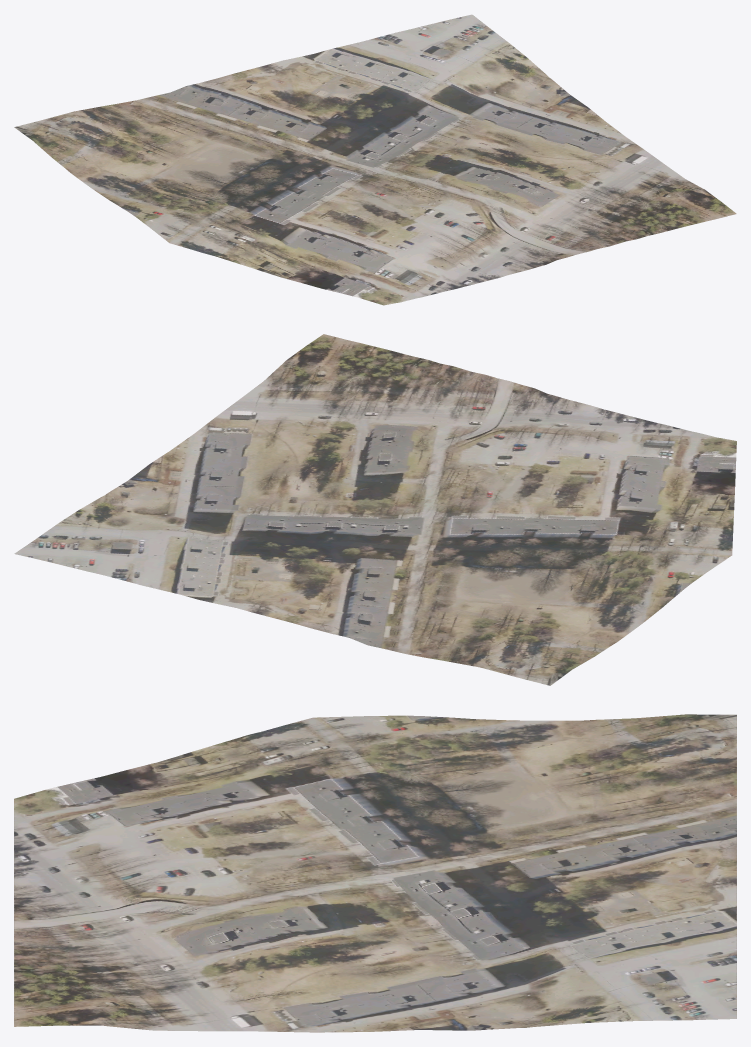
Rendered from CM_Terrain_24491073_6815698.fbx.
3 views of the same model, one above another, from view 1: azimuth 30°, elevation 25°; view 2: azimuth 150°, elevation 25°; view 3: azimuth 270°, elevation 25° (orthographic). The views are drawn at different scales.
Parts seen in each view (by area): view 1: CM_Terrain_24491073_6815698_LOD0; view 2: CM_Terrain_24491073_6815698_LOD0; view 3: CM_Terrain_24491073_6815698_LOD0.
Part boxes in pixels (x1,y1,x2,y2): CM_Terrain_24491073_6815698_LOD0: [14, 14, 736, 305]; CM_Terrain_24491073_6815698_LOD0: [14, 334, 736, 685]; CM_Terrain_24491073_6815698_LOD0: [14, 714, 736, 1032].
Size of what is drawn, in the model's own units: 205 by 5.46 by 205.
